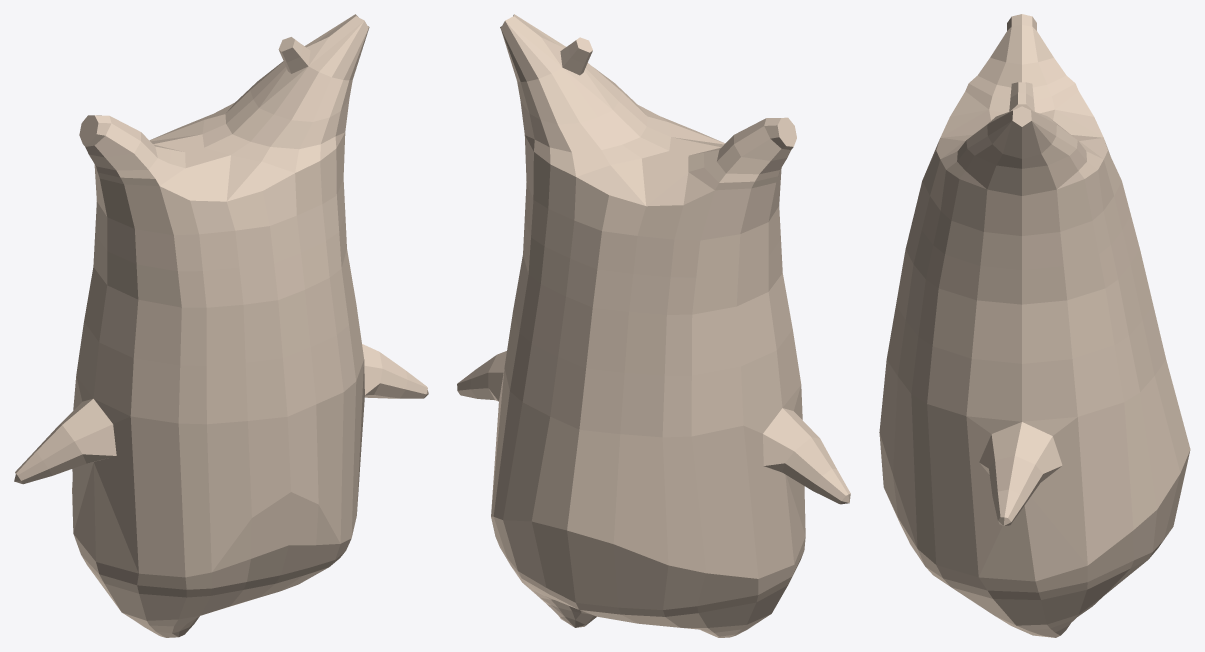
The model's file is frame_0023.obj.
3 renders of one model, left to right at view 1: azimuth 30°, elevation 25°; view 2: azimuth 150°, elevation 25°; view 3: azimuth 270°, elevation 25°, orthographic. The views are drawn at different scales.
Parts seen in each view (by area): view 1: korok; view 2: korok; view 3: korok.
Boxes of the visible parts, box(x1,y1,x2,y2) form: korok: box(14, 14, 428, 637); korok: box(457, 14, 850, 637); korok: box(879, 14, 1190, 637).
Bounding box in the file's own units: 1.59 × 2.15 × 1.07.
